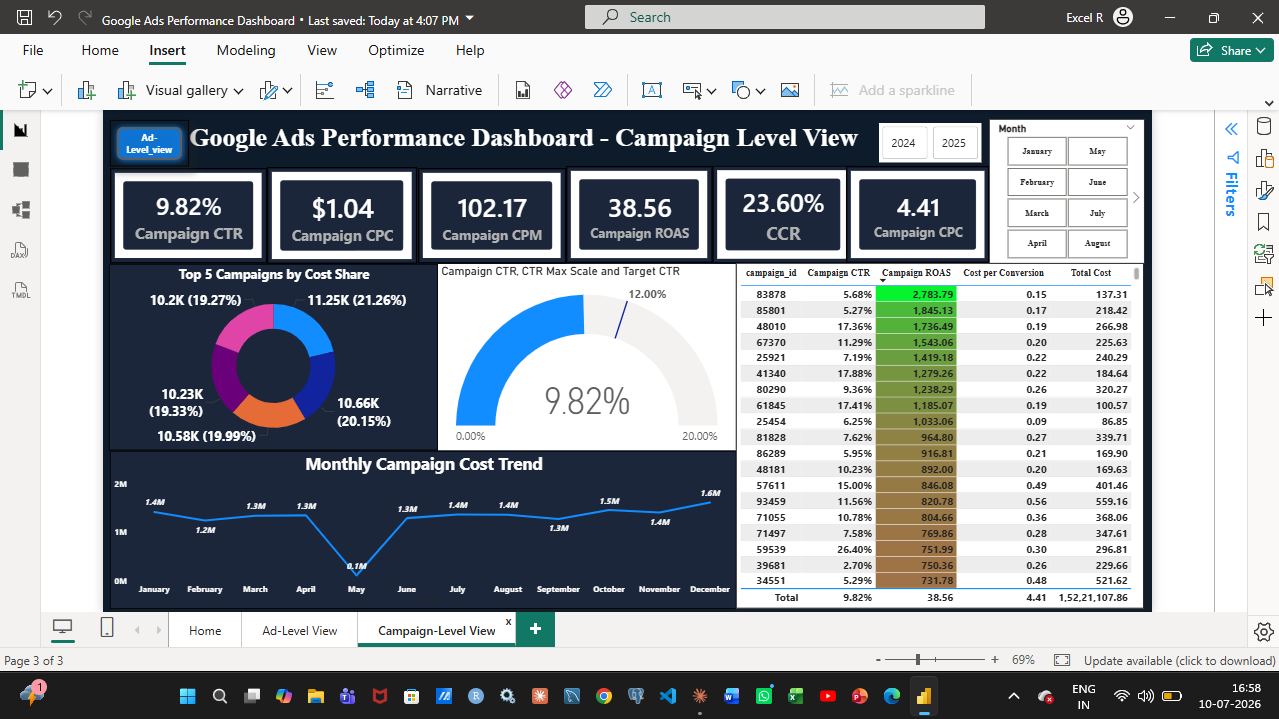

What the dashboard file says about the page in this screenshot:
{"tool":"powerbi","page":{"name":"Campaign-Level View","canvas":[1516,725],"ordinal":2},"visuals":[{"type":"textbox","box":[9.6,12.7,1260,70.1],"z":0},{"type":"cardVisual","fields":{"Data":["Google Add Data.Campaign CTR"]},"box":[10,83.2,226.6,137.7],"z":1000},{"type":"cardVisual","fields":{"Data":["Google Add Data.Campaign CPC"]},"box":[237.3,82.8,216.6,140.2],"z":2000},{"type":"cardVisual","fields":{"Data":["Google Add Data.Campaign CPM"]},"box":[454.7,83.2,213.7,137.7],"z":3000},{"type":"cardVisual","fields":{"Data":["Google Add Data.Campaign ROAS"]},"box":[669,81.2,211.9,140.2],"z":4000},{"type":"cardVisual","fields":{"Data":["Google Add Data.Campaign Conversion Rate"]},"box":[880.9,81.2,202.3,140.2],"z":5000},{"type":"cardVisual","fields":{"Data":["Google Add Data.CampaignCostperConversion"]},"box":[1073.6,81.2,207.1,140.2],"z":6000},{"type":"donutChart","title":"Top 5 Campaigns by Cost Share","fields":{"Category":["Google Add Data.campaign_id"],"Y":["Google Add Data.Total Campaign Cost"]},"box":[9.3,222.4,474.8,269.2],"z":7000},{"type":"lineChart","title":"Monthly Campaign Cost Trend","fields":{"Category":["datetable.Month"],"Y":["Google Add Data.Total Campaign Cost"]},"box":[9.6,492.4,904.6,227.8],"z":8000},{"type":"advancedSlicerVisual","fields":{"Values":["datetable.Year"]},"box":[1121.4,19.1,148.1,57.3],"z":9000},{"type":"tableEx","fields":{"Values":["Google Add Data.campaign_id","Google Add Data.Campaign CTR","Google Add Data.Campaign ROAS","Google Add Data.CampaignCostperConversion","Google Add Data.Total Campaign Cost"]},"box":[914.3,221.3,588.7,498.8],"z":10000},{"type":"gauge","fields":{"Y":["Google Add Data.Campaign CTR"],"TargetValue":["Google Add Data.Target CTR"],"MaxValue":["Google Add Data.CTR Max Scale"]},"box":[484.1,222.4,429.9,269.2],"z":11000},{"type":"actionButton","box":[9.6,14.4,113.9,67.4],"z":12000},{"type":"slicer","fields":{"Values":["datetable.Month"]},"box":[1280,12.8,224.6,208.5],"z":13000}]}

Visuals, with their boxes on the page's 1516x725 design canvas (x1, y1, x2, y2). These are canvas units, not pixel positions in the 1279x719 screenshot, which may show the page scaled, cropped or inside an application window:
textbox: bbox=[10, 13, 1270, 83]
cardVisual - Google Add Data.Campaign CTR: bbox=[10, 83, 237, 221]
cardVisual - Google Add Data.Campaign CPC: bbox=[237, 83, 454, 223]
cardVisual - Google Add Data.Campaign CPM: bbox=[455, 83, 668, 221]
cardVisual - Google Add Data.Campaign ROAS: bbox=[669, 81, 881, 221]
cardVisual - Google Add Data.Campaign Conversion Rate: bbox=[881, 81, 1083, 221]
cardVisual - Google Add Data.CampaignCostperConversion: bbox=[1074, 81, 1281, 221]
"Top 5 Campaigns by Cost Share" donutChart: bbox=[9, 222, 484, 492]
"Monthly Campaign Cost Trend" lineChart: bbox=[10, 492, 914, 720]
advancedSlicerVisual - datetable.Year: bbox=[1121, 19, 1270, 76]
tableEx - Google Add Data.campaign_id x Google Add Data.Campaign CTR: bbox=[914, 221, 1503, 720]
gauge - Google Add Data.Campaign CTR x Google Add Data.Target CTR: bbox=[484, 222, 914, 492]
actionButton: bbox=[10, 14, 124, 82]
slicer - datetable.Month: bbox=[1280, 13, 1505, 221]
